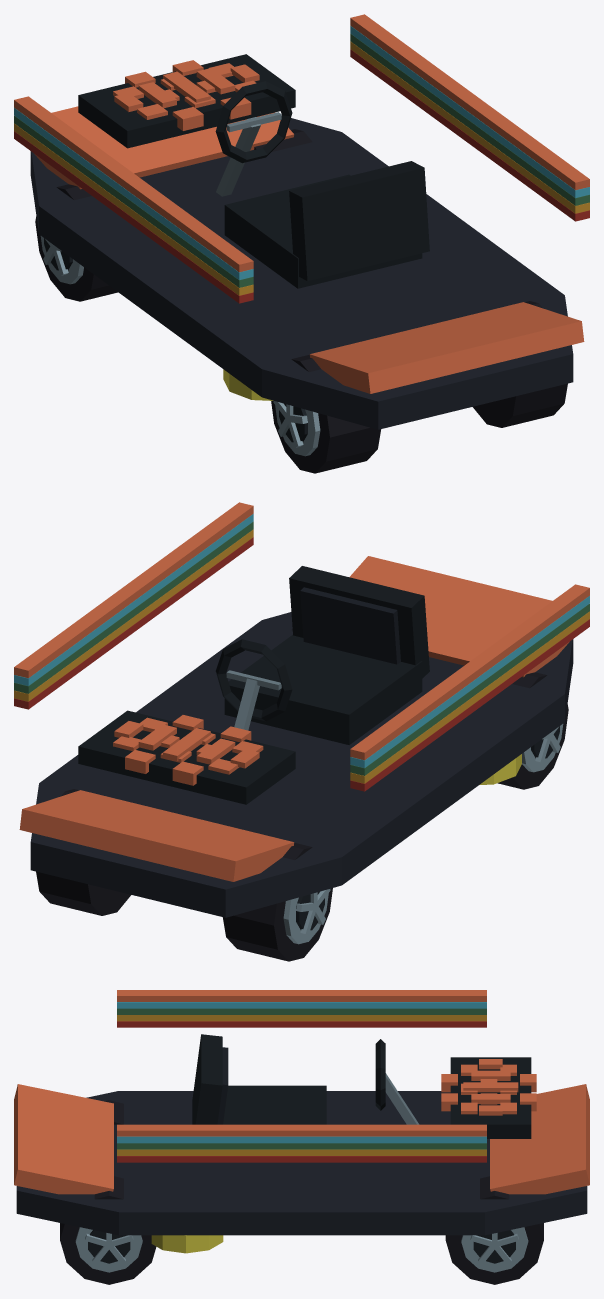
Rendered from kart.glb.
The picture shows the model from 3 angles, top to bottom: view 1: azimuth 30°, elevation 25°; view 2: azimuth 150°, elevation 25°; view 3: azimuth 270°, elevation 25°; orthographic projection. The views are drawn at different scales.
Visible parts, largest first — view 1: identity-hoverboard-hoverboard-turned-up-deck, identity-hoverboard-motif-rainbow, identity-hoverboard-driver-cockpit, identity-hoverboard-motif-equalizer, wheel-rear-left, identity-hoverboard-motif-pixel, wheel-front-left, wheel-rear-right; view 2: identity-hoverboard-hoverboard-turned-up-deck, identity-hoverboard-motif-rainbow, identity-hoverboard-driver-cockpit, identity-hoverboard-motif-equalizer, wheel-front-left, identity-hoverboard-motif-pixel, wheel-front-right, wheel-rear-left; view 3: identity-hoverboard-hoverboard-turned-up-deck, identity-hoverboard-motif-rainbow, identity-hoverboard-driver-cockpit, identity-hoverboard-motif-equalizer, wheel-front-right, wheel-rear-right, identity-hoverboard-motif-pixel.
Boxes of the visible parts, x1,y1,x2,y2 form: identity-hoverboard-hoverboard-turned-up-deck: (30,106,584,429); identity-hoverboard-motif-rainbow: (14,14,589,303); identity-hoverboard-driver-cockpit: (215,81,429,288); identity-hoverboard-motif-equalizer: (78,54,295,148); wheel-rear-left: (271,354,381,473); identity-hoverboard-motif-pixel: (113,60,256,130); wheel-front-left: (35,184,117,301); wheel-rear-right: (473,301,567,427); identity-hoverboard-hoverboard-turned-up-deck: (19,556,573,917); identity-hoverboard-motif-rainbow: (14,502,589,791); identity-hoverboard-driver-cockpit: (215,566,429,744); identity-hoverboard-motif-equalizer: (78,710,295,804); wheel-front-left: (222,842,332,961); identity-hoverboard-motif-pixel: (113,715,263,785); wheel-front-right: (36,789,130,915); wheel-rear-left: (497,672,568,789); identity-hoverboard-hoverboard-turned-up-deck: (14,1084,589,1253); identity-hoverboard-motif-rainbow: (117,990,486,1162); identity-hoverboard-driver-cockpit: (192,1034,419,1124); identity-hoverboard-motif-equalizer: (450,1057,531,1138); wheel-front-right: (445,1176,543,1284); wheel-rear-right: (60,1176,156,1284); identity-hoverboard-motif-pixel: (441,1064,536,1114).
Bounding box in the file's own units: 1.69 × 1.09 × 2.93.
